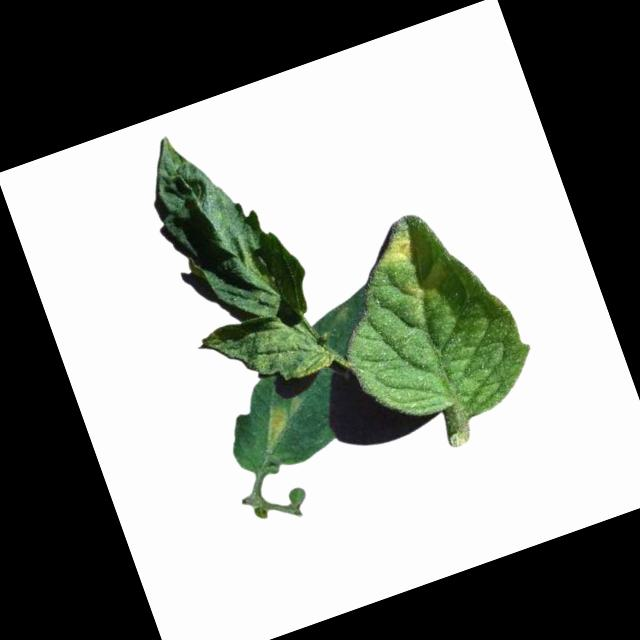Leaf_Mold: (371, 231, 417, 274), (254, 400, 295, 447)
